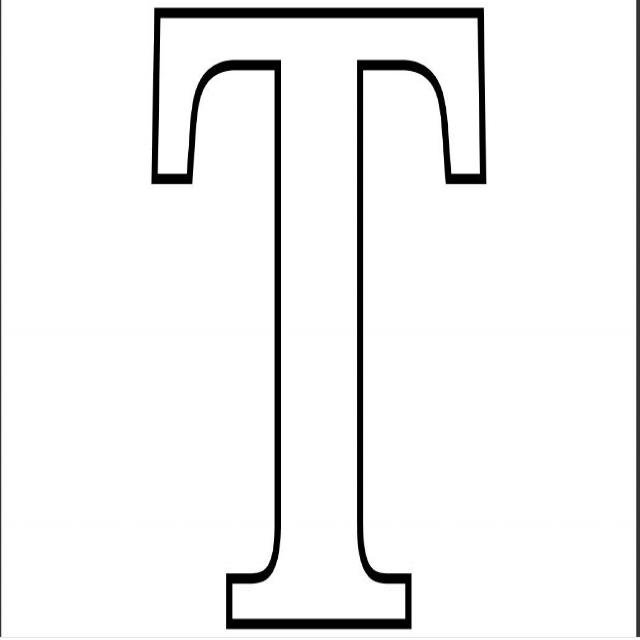T: (125, 0, 524, 637)
